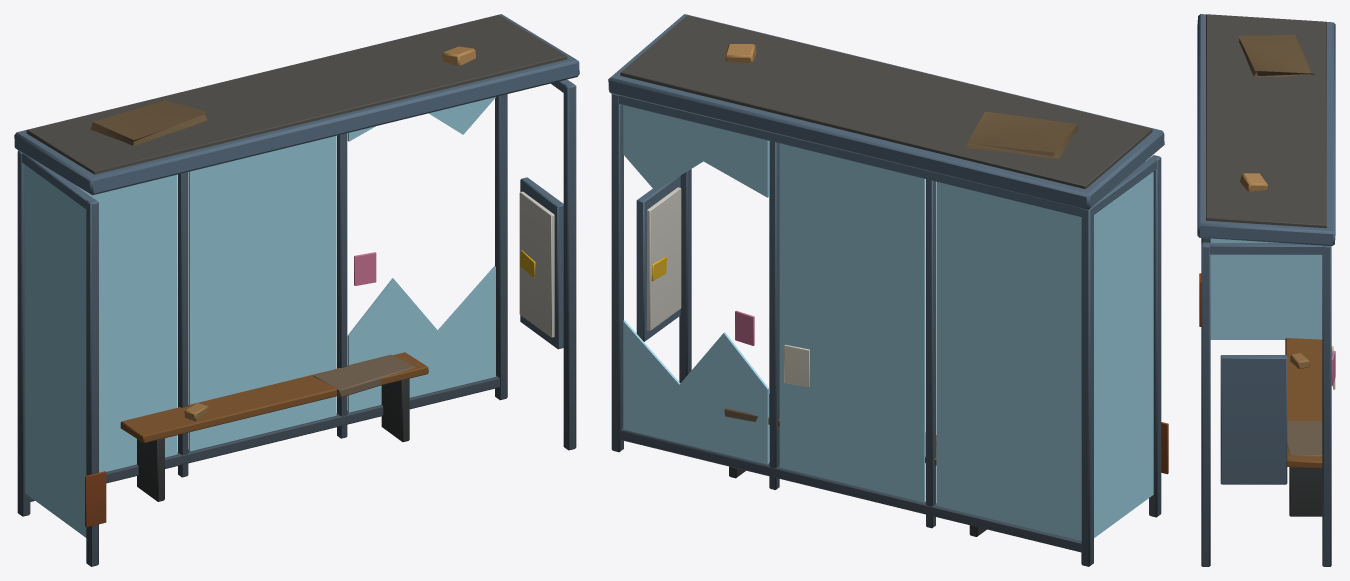
Rendered from 07_abribus.fbx.
The picture shows the model from 3 angles, left to right: view 1: azimuth 30°, elevation 25°; view 2: azimuth 150°, elevation 25°; view 3: azimuth 270°, elevation 25°; orthographic projection. The views are drawn at different scales.
Parts seen in each view (by area): view 1: Vitres, Toit, Structure, Banc, PanneauHoraires; view 2: Vitres, Toit, Structure, PanneauHoraires, Banc; view 3: Toit, Vitres, PanneauHoraires, Structure, Banc.
Boxes of the visible parts, left/top/right/bottom form: Vitres: left=25, top=97, right=495, bottom=537; Toit: left=14, top=14, right=579, bottom=195; Structure: left=17, top=79, right=576, bottom=566; Banc: left=120, top=352, right=428, bottom=501; PanneauHoraires: left=519, top=177, right=563, bottom=349; Vitres: left=623, top=105, right=1153, bottom=540; Toit: left=608, top=14, right=1164, bottom=209; Structure: left=611, top=94, right=1168, bottom=566; PanneauHoraires: left=636, top=176, right=681, bottom=341; Banc: left=724, top=394, right=986, bottom=536; Toit: left=1197, top=14, right=1335, bottom=245; Vitres: left=1210, top=238, right=1322, bottom=339; PanneauHoraires: left=1220, top=355, right=1287, bottom=484; Structure: left=1199, top=238, right=1335, bottom=566; Banc: left=1285, top=338, right=1322, bottom=516.
Size of the model in its own units: 3.36 by 2.6 by 0.924.
Materials: 1 (1 with a texture image).
